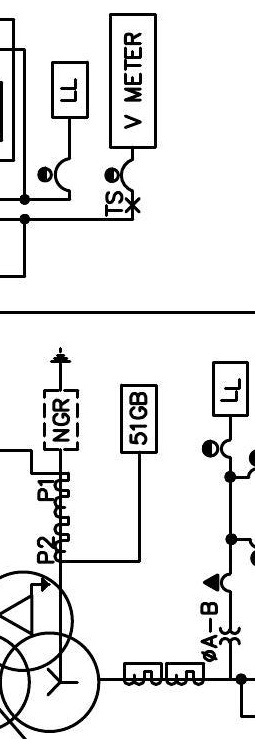LL: (50, 60, 90, 120), (212, 360, 249, 418)
NGR_future: (43, 346, 80, 452)
v_m_digital: (108, 12, 158, 150)
